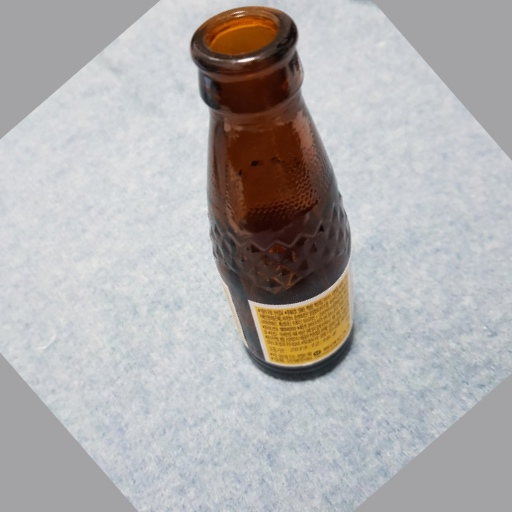Glass_3: (189, 5, 358, 384)
